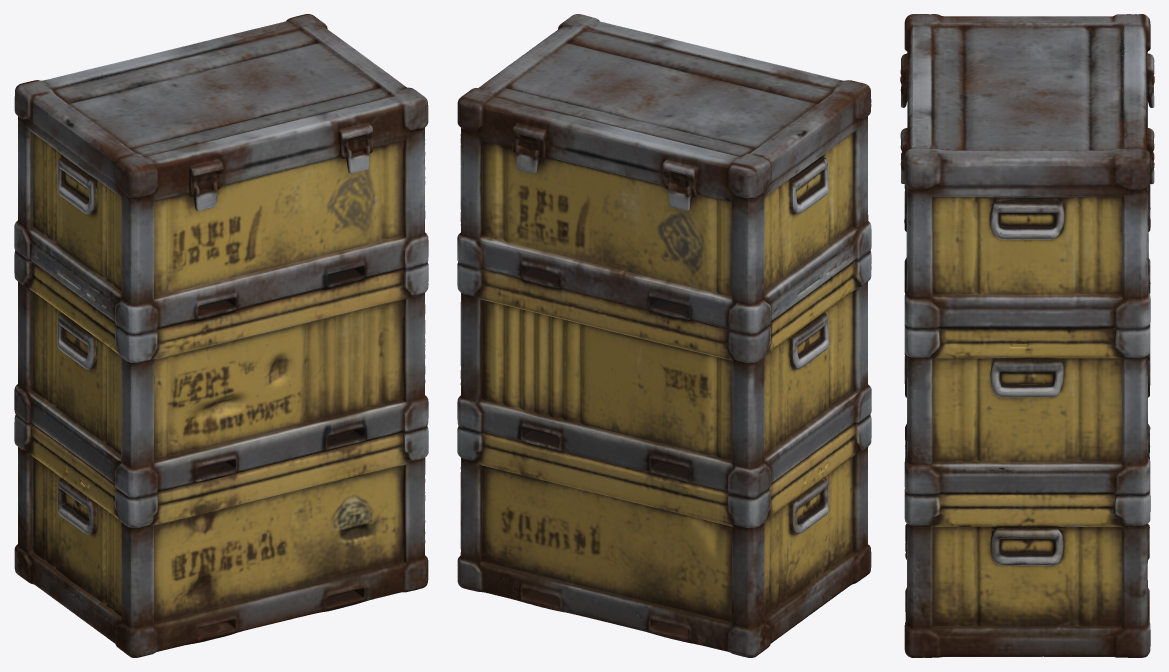
The model's file is crates_ruin.glb.
3 views of the same model, side by side, from view 1: azimuth 30°, elevation 25°; view 2: azimuth 150°, elevation 25°; view 3: azimuth 270°, elevation 25° (orthographic).
Visible parts, largest first — view 1: world; view 2: world; view 3: world.
Part boxes in pixels (x1,y1,x2,y2): world: (14, 14, 428, 657); world: (457, 14, 871, 657); world: (900, 14, 1154, 657).
Bounding box in the file's own units: 0.7771 × 1.2 × 0.5538.
Materials: 1 (1 with a texture image).
